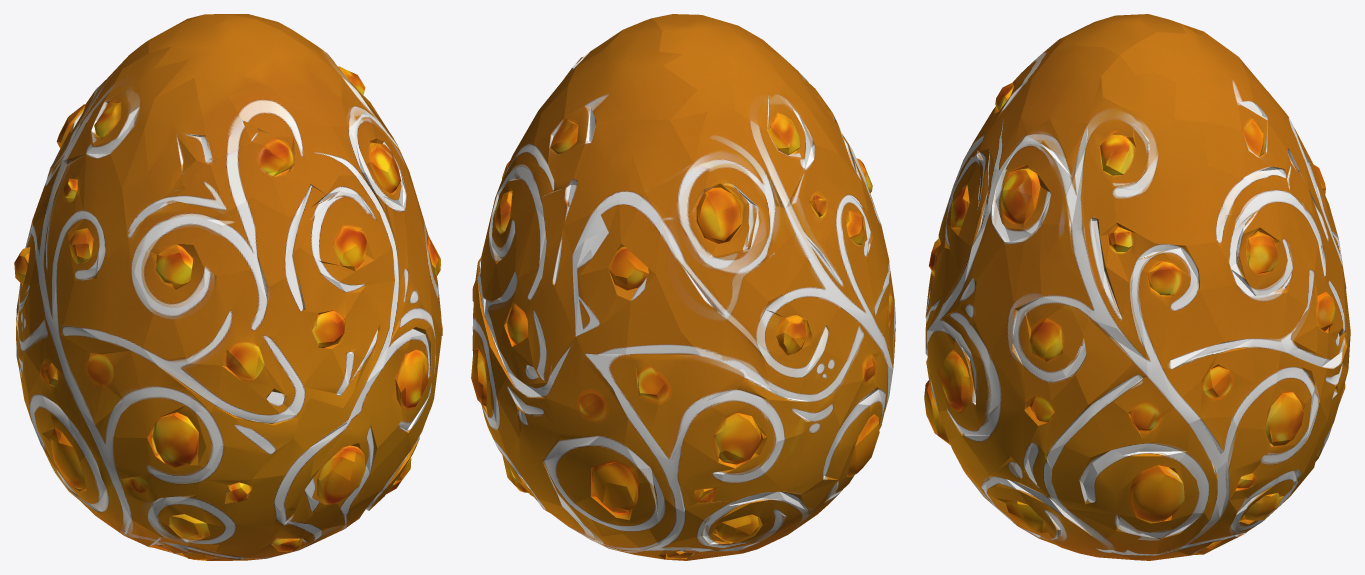
The picture shows the model from 3 angles, left to right: view 1: azimuth 30°, elevation 25°; view 2: azimuth 150°, elevation 25°; view 3: azimuth 270°, elevation 25°; orthographic projection.
Bounding box in the file's own units: 1.44 × 1.9 × 1.43.
Materials: 1 (1 with a texture image).
